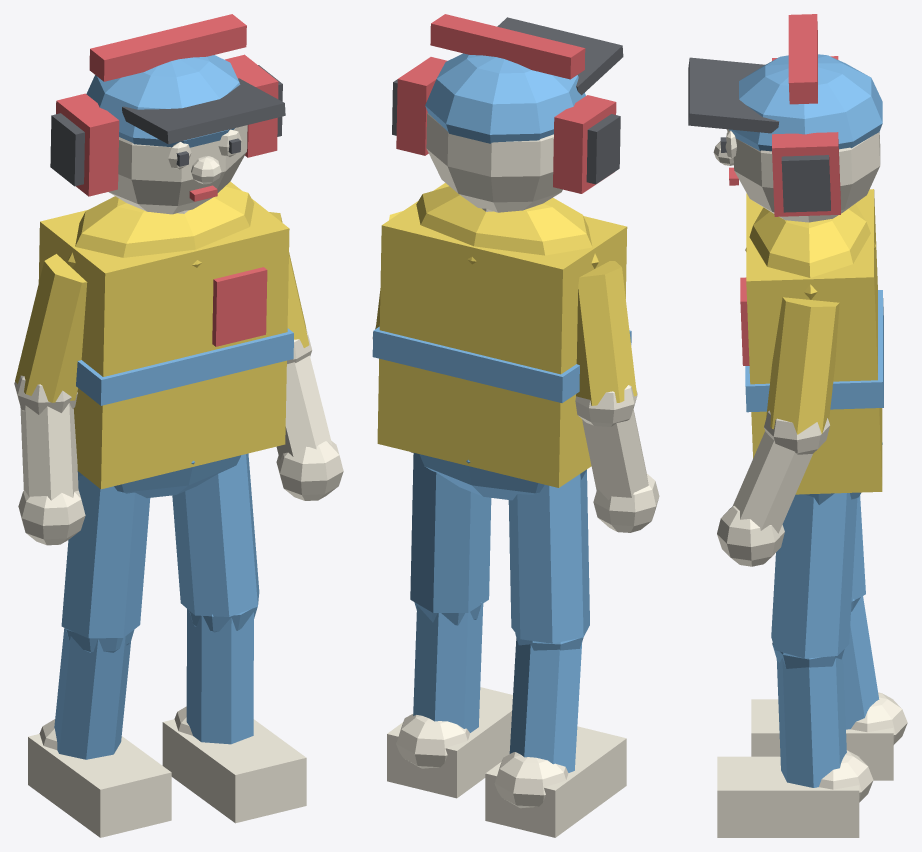
Rendered from lawn-mowing-simulator-kit-mowing-hero-standing-53f4e36d__27345.glb.
3 renders of one model, left to right at view 1: azimuth 30°, elevation 25°; view 2: azimuth 150°, elevation 25°; view 3: azimuth 270°, elevation 25°, orthographic. The views are drawn at different scales.
Parts seen in each view (by area): view 1: mowing-hero-standing; view 2: mowing-hero-standing; view 3: mowing-hero-standing.
Part boxes in pixels (left/top/right/bottom): mowing-hero-standing: left=14, top=14, right=343, bottom=837; mowing-hero-standing: left=372, top=14, right=659, bottom=837; mowing-hero-standing: left=688, top=14, right=907, bottom=837.
Bounding box in the file's own units: 0.7014 × 1.73 × 0.4632.
